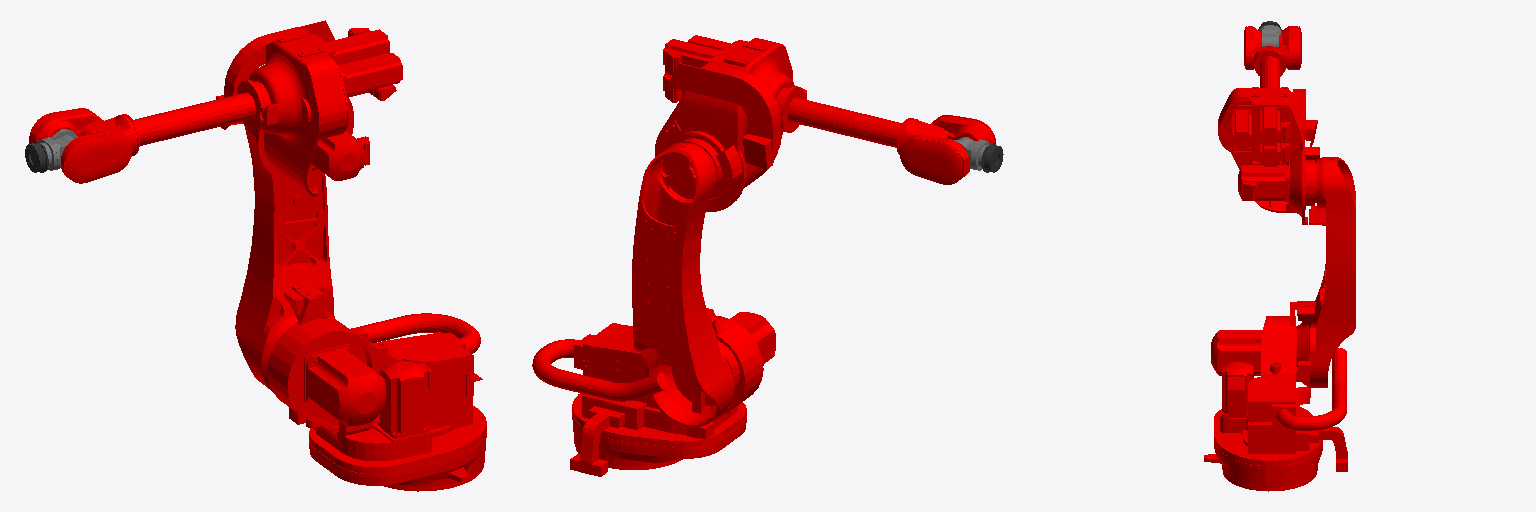
The robot description file, URDF, robot "SMART NS 12-1,85 ARC_040128.SLDASM":
<?xml version="1.0" encoding="utf-8"?>
<!-- This URDF was automatically created by SolidWorks to URDF Exporter! Originally created by [author] ([email redacted]) 
     Commit Version: 1.6.0-4-g7f85cfe  Build Version: 1.6.7995.38578
     For more information, please see http://wiki.ros.org/sw_urdf_exporter -->
<robot
  name="SMART NS 12-1,85 ARC_040128.SLDASM">
  <link
    name="BaseLink">
    <inertial>
      <origin
        xyz="0.0744476654482305 0.115913824172212 0.00106781708847979"
        rpy="0 0 0" />
      <mass
        value="390.843303693814" />
      <inertia
        ixx="6.87062841623644"
        ixy="0.353603109638576"
        ixz="0.174015643472711"
        iyy="16.7295295436455"
        iyz="-0.100796174571651"
        izz="13.643311965008" />
    </inertial>
    <visual>
      <origin
        xyz="0 0 0"
        rpy="0 0 0" />
      <geometry>
        <mesh
          filename="package://SMART NS 12-1,85 ARC_040128.SLDASM/meshes/BaseLink.STL" />
      </geometry>
      <material
        name="">
        <color
          rgba="1 0 0 1" />
      </material>
    </visual>
    <collision>
      <origin
        xyz="0 0 0"
        rpy="0 0 0" />
      <geometry>
        <mesh
          filename="package://SMART NS 12-1,85 ARC_040128.SLDASM/meshes/BaseLink.STL" />
      </geometry>
    </collision>
  </link>
  <link
    name="Link1">
    <inertial>
      <origin
        xyz="-0.1065 0.20231 1.7749E-05"
        rpy="0 0 0" />
      <mass
        value="360.59" />
      <inertia
        ixx="4.3821"
        ixy="1.1049"
        ixz="-0.11795"
        iyy="8.2984"
        iyz="0.1654"
        izz="7.8213" />
    </inertial>
    <visual>
      <origin
        xyz="0 0 0"
        rpy="0 0 0" />
      <geometry>
        <mesh
          filename="package://SMART NS 12-1,85 ARC_040128.SLDASM/meshes/Link1.STL" />
      </geometry>
      <material
        name="">
        <color
          rgba="1 0 0 1" />
      </material>
    </visual>
    <collision>
      <origin
        xyz="0 0 0"
        rpy="0 0 0" />
      <geometry>
        <mesh
          filename="package://SMART NS 12-1,85 ARC_040128.SLDASM/meshes/Link1.STL" />
      </geometry>
    </collision>
  </link>
  <joint
    name="Ax1"
    type="continuous">
    <origin
      xyz="0 0 0.251"
      rpy="1.5708 0 0" />
    <parent
      link="BaseLink" />
    <child
      link="Link1" />
    <axis
      xyz="0 1 0" />
  </joint>
  <link
    name="Link2">
    <inertial>
      <origin
        xyz="0.012587 0.28786 -0.10477"
        rpy="0 0 0" />
      <mass
        value="58.964" />
      <inertia
        ixx="3.913"
        ixy="-0.077319"
        ixz="0.024977"
        iyy="0.47847"
        iyz="0.39274"
        izz="3.9572" />
    </inertial>
    <visual>
      <origin
        xyz="0 0 0"
        rpy="0 0 0" />
      <geometry>
        <mesh
          filename="package://SMART NS 12-1,85 ARC_040128.SLDASM/meshes/Link2.STL" />
      </geometry>
      <material
        name="">
        <color
          rgba="1 0 0 1" />
      </material>
    </visual>
    <collision>
      <origin
        xyz="0 0 0"
        rpy="0 0 0" />
      <geometry>
        <mesh
          filename="package://SMART NS 12-1,85 ARC_040128.SLDASM/meshes/Link2.STL" />
      </geometry>
    </collision>
  </link>
  <joint
    name="Ax2"
    type="continuous">
    <origin
      xyz="-0.3 0.349 -0.101"
      rpy="0 0 0" />
    <parent
      link="Link1" />
    <child
      link="Link2" />
    <axis
      xyz="0 0 1" />
  </joint>
  <link
    name="Link3">
    <inertial>
      <origin
        xyz="-0.0492113438257874 0.137646138939902 0.0901608936893602"
        rpy="0 0 0" />
      <mass
        value="170.385336968475" />
      <inertia
        ixx="2.74185983968485"
        ixy="0.387760741956867"
        ixz="0.293713022391787"
        iyy="1.82177437841929"
        iyz="-0.606924522617031"
        izz="2.39545621342414" />
    </inertial>
    <visual>
      <origin
        xyz="0 0 0"
        rpy="0 0 0" />
      <geometry>
        <mesh
          filename="package://SMART NS 12-1,85 ARC_040128.SLDASM/meshes/Link3.STL" />
      </geometry>
      <material
        name="">
        <color
          rgba="1 0 0 1" />
      </material>
    </visual>
    <collision>
      <origin
        xyz="0 0 0"
        rpy="0 0 0" />
      <geometry>
        <mesh
          filename="package://SMART NS 12-1,85 ARC_040128.SLDASM/meshes/Link3.STL" />
      </geometry>
    </collision>
  </link>
  <joint
    name="Ax3"
    type="continuous">
    <origin
      xyz="0 0.7 0"
      rpy="0 0 0" />
    <parent
      link="Link2" />
    <child
      link="Link3" />
    <axis
      xyz="0 0 1" />
  </joint>
  <link
    name="Link4">
    <inertial>
      <origin
        xyz="-0.41579 -3.6473E-06 -0.0084221"
        rpy="0 0 0" />
      <mass
        value="44.945" />
      <inertia
        ixx="0.18122"
        ixy="5.7883E-06"
        ixz="-0.0072268"
        iyy="0.52574"
        iyz="3.2086E-06"
        izz="0.4104" />
    </inertial>
    <visual>
      <origin
        xyz="0 0 0"
        rpy="0 0 0" />
      <geometry>
        <mesh
          filename="package://SMART NS 12-1,85 ARC_040128.SLDASM/meshes/Link4.STL" />
      </geometry>
      <material
        name="">
        <color
          rgba="1 0 0 1" />
      </material>
    </visual>
    <collision>
      <origin
        xyz="0 0 0"
        rpy="0 0 0" />
      <geometry>
        <mesh
          filename="package://SMART NS 12-1,85 ARC_040128.SLDASM/meshes/Link4.STL" />
      </geometry>
    </collision>
  </link>
  <joint
    name="Ax4"
    type="continuous">
    <origin
      xyz="-0.238 0.185 0.101"
      rpy="0 0 0" />
    <parent
      link="Link3" />
    <child
      link="Link4" />
    <axis
      xyz="1 0 0" />
  </joint>
  <link
    name="Link5">
    <inertial>
      <origin
        xyz="-0.0417593366585804 2.64362911670535E-05 -0.00106287346441888"
        rpy="0 0 0" />
      <mass
        value="4.38982627500557" />
      <inertia
        ixx="0.00326590350076518"
        ixy="-4.76651191579561E-06"
        ixz="0.000157386056054739"
        iyy="0.00776211709964979"
        iyz="4.21608948038967E-06"
        izz="0.00768408248717458" />
    </inertial>
    <visual>
      <origin
        xyz="0 0 0"
        rpy="0 0 0" />
      <geometry>
        <mesh
          filename="package://SMART NS 12-1,85 ARC_040128.SLDASM/meshes/Link5.STL" />
      </geometry>
      <material
        name="">
        <color
          rgba="0.501960784313725 0.501960784313725 0.501960784313725 1" />
      </material>
    </visual>
    <collision>
      <origin
        xyz="0 0 0"
        rpy="0 0 0" />
      <geometry>
        <mesh
          filename="package://SMART NS 12-1,85 ARC_040128.SLDASM/meshes/Link5.STL" />
      </geometry>
    </collision>
  </link>
  <joint
    name="Ax5"
    type="continuous">
    <origin
      xyz="-0.592 0 0"
      rpy="0 0 0" />
    <parent
      link="Link4" />
    <child
      link="Link5" />
    <axis
      xyz="0 0 1" />
  </joint>
  <link
    name="Link6">
    <inertial>
      <origin
        xyz="-0.0148549427534164 -0.00130113394450015 3.25513187997979E-05"
        rpy="0 0 0" />
      <mass
        value="0.721881062345406" />
      <inertia
        ixx="0.000738951655222946"
        ixy="2.55084893274034E-06"
        ixz="-2.78751313119689E-07"
        iyy="0.000418815751052622"
        iyz="-3.05758419040228E-08"
        izz="0.000386595590201194" />
    </inertial>
    <visual>
      <origin
        xyz="0 0 0"
        rpy="0 0 0" />
      <geometry>
        <mesh
          filename="package://SMART NS 12-1,85 ARC_040128.SLDASM/meshes/Link6.STL" />
      </geometry>
      <material
        name="">
        <color
          rgba="0.250980392156863 0.250980392156863 0.250980392156863 1" />
      </material>
    </visual>
    <collision>
      <origin
        xyz="0 0 0"
        rpy="0 0 0" />
      <geometry>
        <mesh
          filename="package://SMART NS 12-1,85 ARC_040128.SLDASM/meshes/Link6.STL" />
      </geometry>
    </collision>
  </link>
  <joint
    name="Ax6"
    type="continuous">
    <origin
      xyz="-0.094 0 0"
      rpy="0 0 0" />
    <parent
      link="Link5" />
    <child
      link="Link6" />
    <axis
      xyz="1 0 0" />
  </joint>
</robot>

--- What the picture shows (computed from the rendered views, not written in the file) ---
Views: 3 orthographic renders of the robot side by side, from view 1: azimuth 30°, elevation 25°; view 2: azimuth 150°, elevation 25°; view 3: azimuth 270°, elevation 25°.
Model SMART NS 12-1,85 ARC_040128.SLDASM with 7 links and 6 joints (6 continuous), rooted at BaseLink, posed all joints at 0.
Visible links, largest first — view 1: Link1, Link3, Link2, Link4, Link5, Link6; view 2: Link2, Link1, Link3, Link4, Link5; view 3: Link1, Link3, Link2, Link4.
Boxes of the visible links, x1=… form: Link1: x1=268, y1=294, x2=486, y2=491; Link3: x1=216, y1=20, x2=402, y2=196; Link2: x1=235, y1=124, x2=335, y2=391; Link4: x1=29, y1=80, x2=262, y2=183; Link5: x1=39, y1=129, x2=77, y2=170; Link6: x1=25, y1=141, x2=48, y2=172; Link2: x1=632, y1=143, x2=734, y2=427; Link1: x1=532, y1=308, x2=775, y2=476; Link3: x1=655, y1=35, x2=806, y2=211; Link4: x1=781, y1=86, x2=995, y2=184; Link5: x1=954, y1=137, x2=989, y2=170; Link1: x1=1204, y1=302, x2=1347, y2=491; Link3: x1=1218, y1=87, x2=1319, y2=224; Link2: x1=1297, y1=157, x2=1355, y2=387; Link4: x1=1244, y1=26, x2=1301, y2=87.
Size in the robot's own frame: 1.5 by 0.568 by 1.38 metres.
Meshes: 7 distinct files referenced, 6 mesh visuals loaded (6 binary STL); not drawn: 1 (reference not matched to a file when rendering).